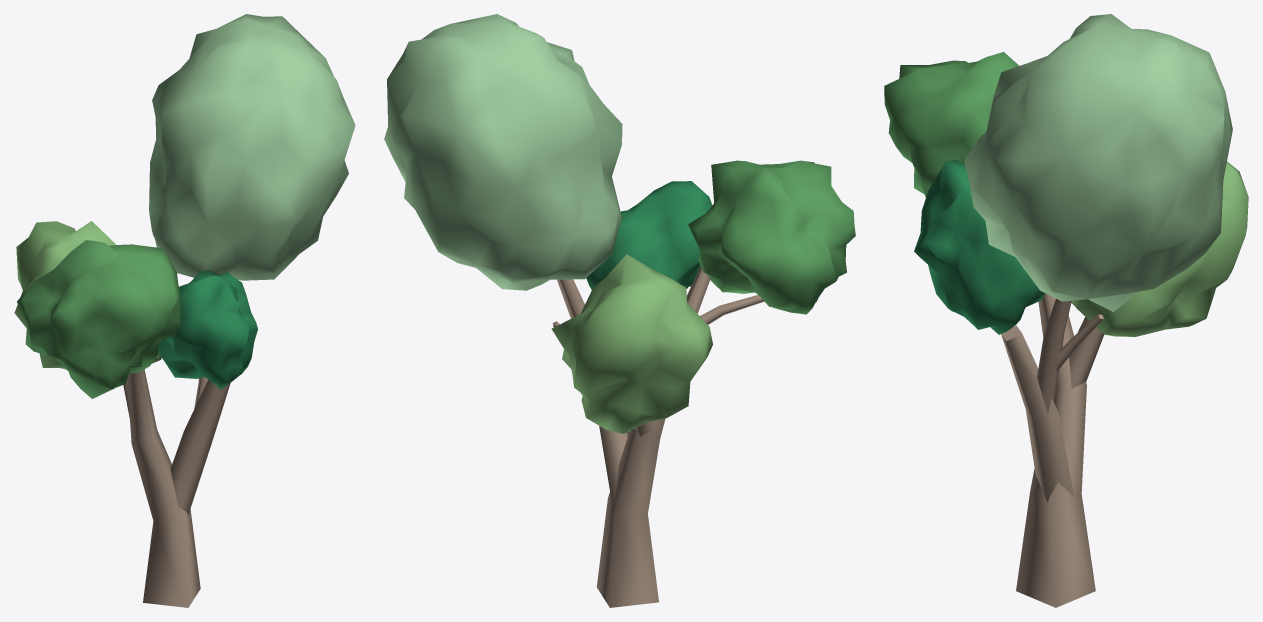
File: maple2-lod2.glb
The picture shows the model from 3 angles, left to right: view 1: azimuth 30°, elevation 25°; view 2: azimuth 150°, elevation 25°; view 3: azimuth 270°, elevation 25°; orthographic projection. The views are drawn at different scales.
Parts seen in each view (by area): view 1: maple2-lod2; view 2: maple2-lod2; view 3: maple2-lod2.
Boxes of the visible parts, x1,y1,x2,y2 form: maple2-lod2: (14, 14, 355, 607); maple2-lod2: (384, 14, 855, 607); maple2-lod2: (884, 14, 1248, 607).
Size of the model in its own units: 8.61 by 12.19 by 6.45.
